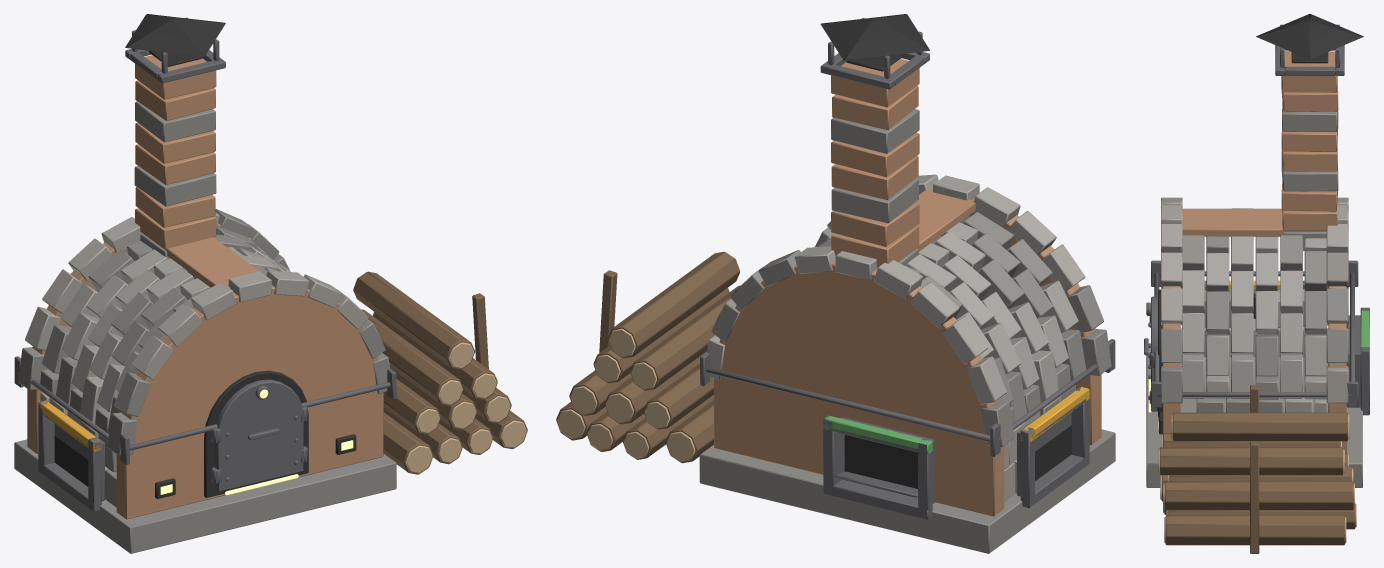
Rendered from feCharcoalKiln.fbx.
3 views of the same model, side by side, from view 1: azimuth 30°, elevation 25°; view 2: azimuth 150°, elevation 25°; view 3: azimuth 270°, elevation 25° (orthographic). The views are drawn at different scales.
Visible parts, largest first — view 1: feKiln_Base; view 2: feKiln_Base; view 3: feKiln_Base.
Boxes of the visible parts, x1,y1,x2,y2 form: feKiln_Base: (14, 14, 527, 553); feKiln_Base: (556, 14, 1115, 553); feKiln_Base: (1144, 14, 1369, 553).
Size of the model in its own units: 1.97 by 1.94 by 0.98.
